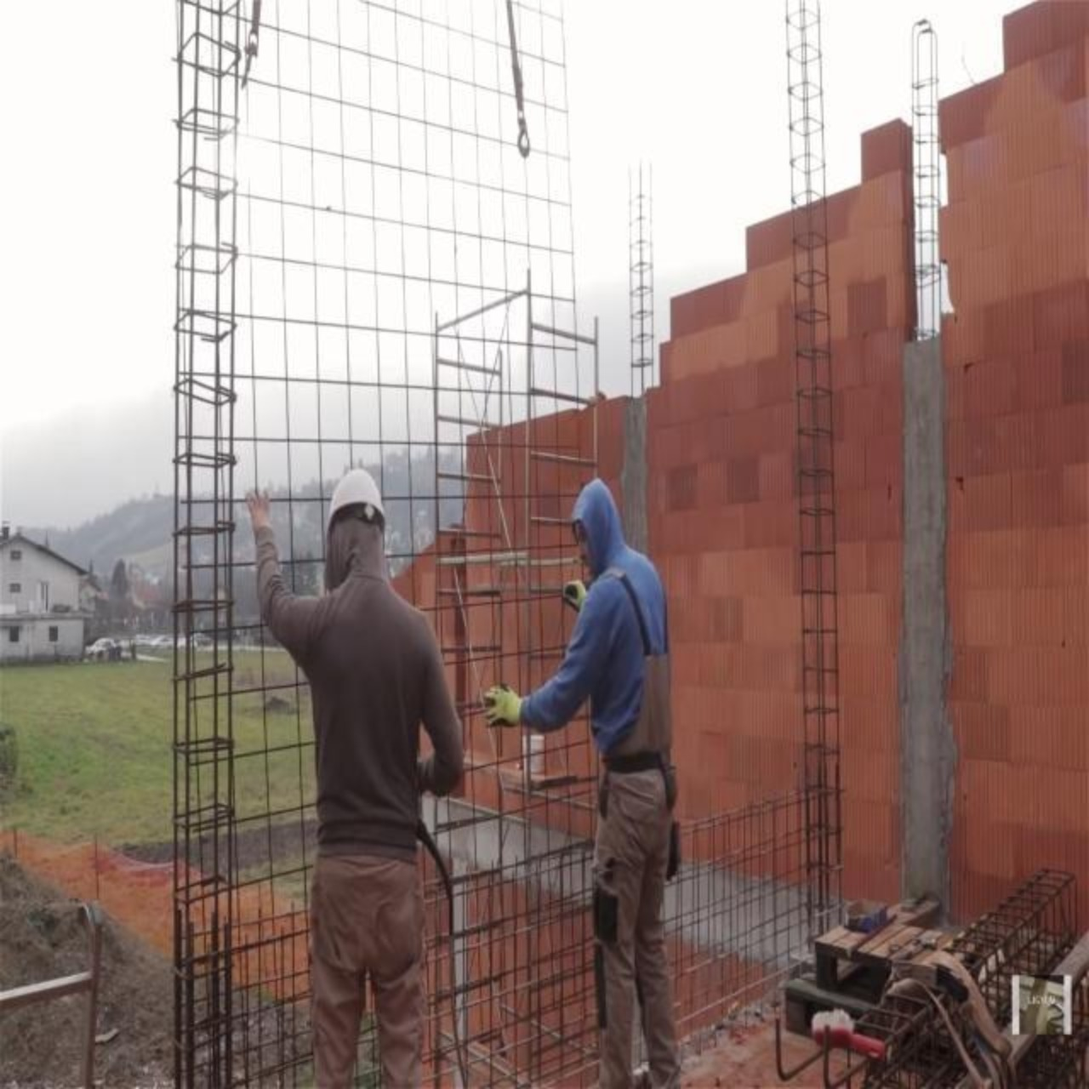helmet: (322, 463, 389, 582)
no_helmet: (569, 482, 629, 573)
no_vest: (309, 584, 419, 852)
person: (248, 466, 467, 1089), (482, 475, 676, 1089)
vest: (583, 557, 673, 767)
